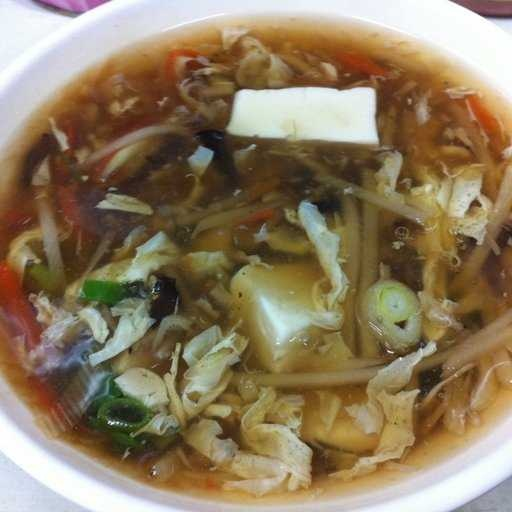soup: (1, 27, 490, 490)
